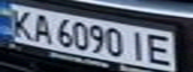0: (106, 25, 127, 58), (69, 19, 90, 51)
6: (51, 16, 75, 48)
9: (87, 22, 106, 54)
A: (27, 11, 54, 44)
E: (142, 32, 178, 66)
I: (124, 28, 151, 62)
K: (3, 6, 36, 40)
